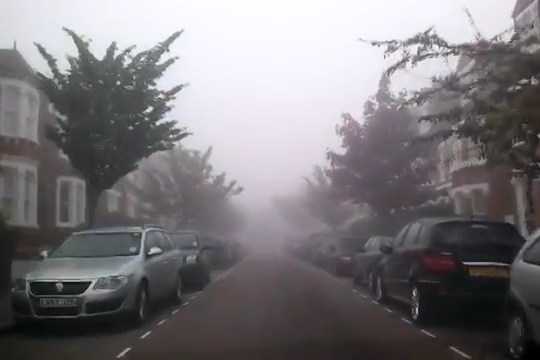car: (372, 211, 536, 332), (26, 223, 183, 330), (347, 233, 438, 300), (500, 226, 540, 359), (139, 227, 212, 295), (314, 234, 379, 279), (300, 230, 340, 269)
